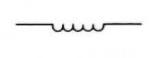inductor: (41, 16, 112, 37)
